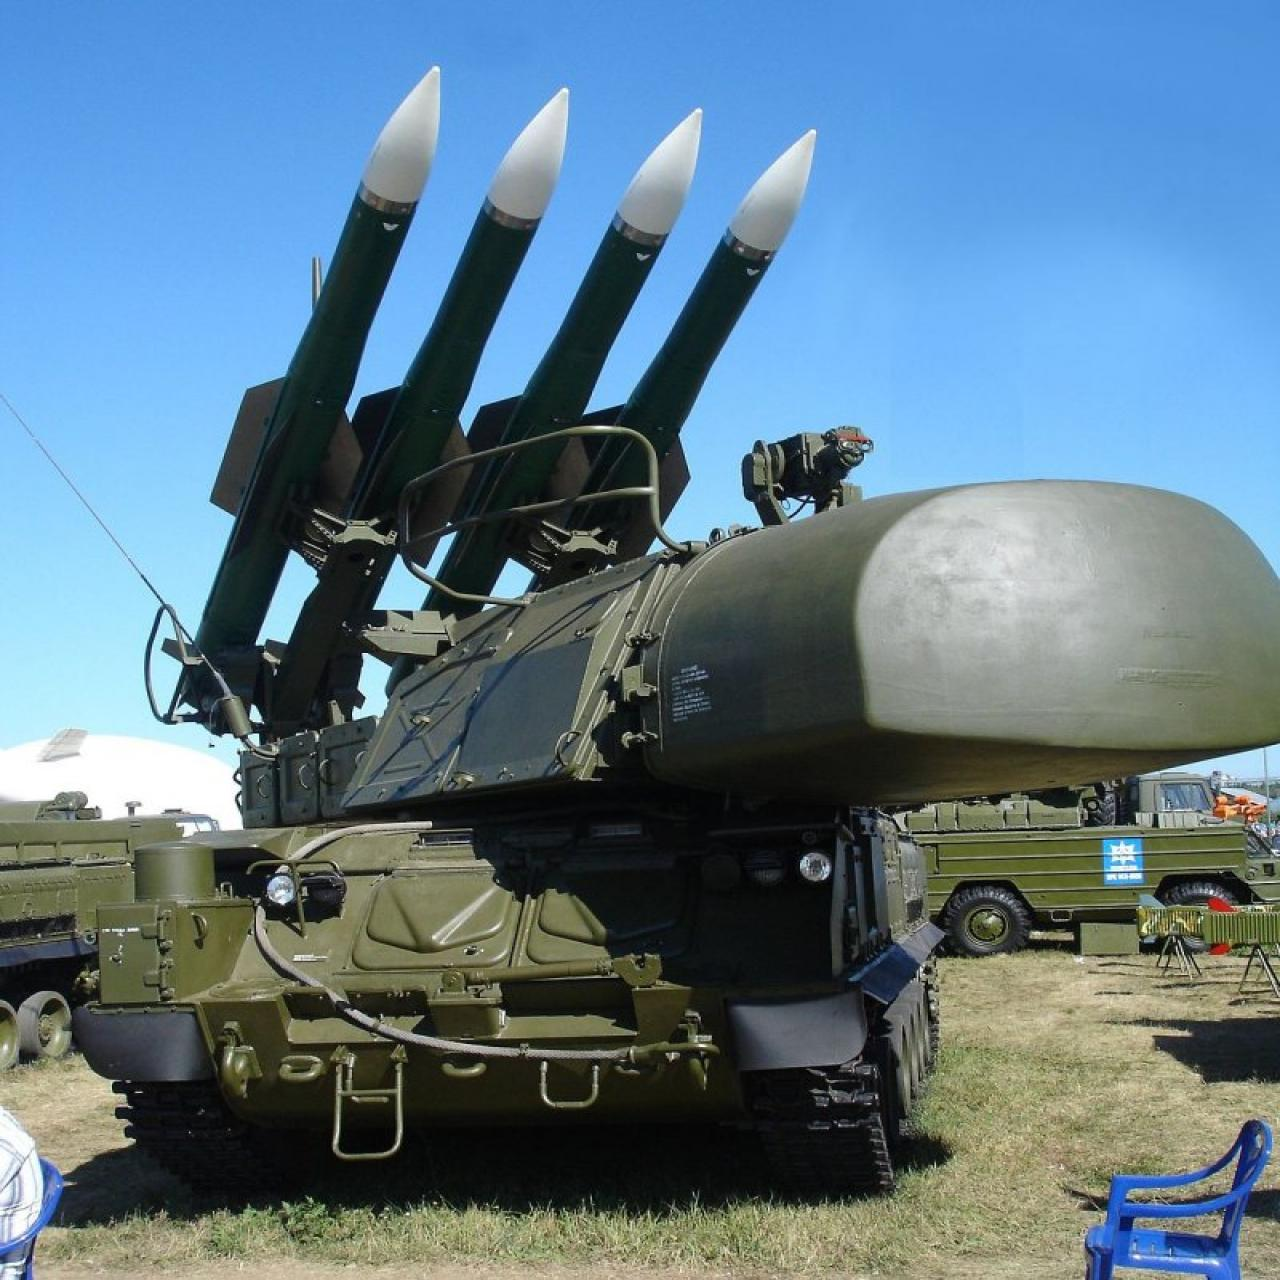MIL_Veh: (73, 90, 1280, 1192)
